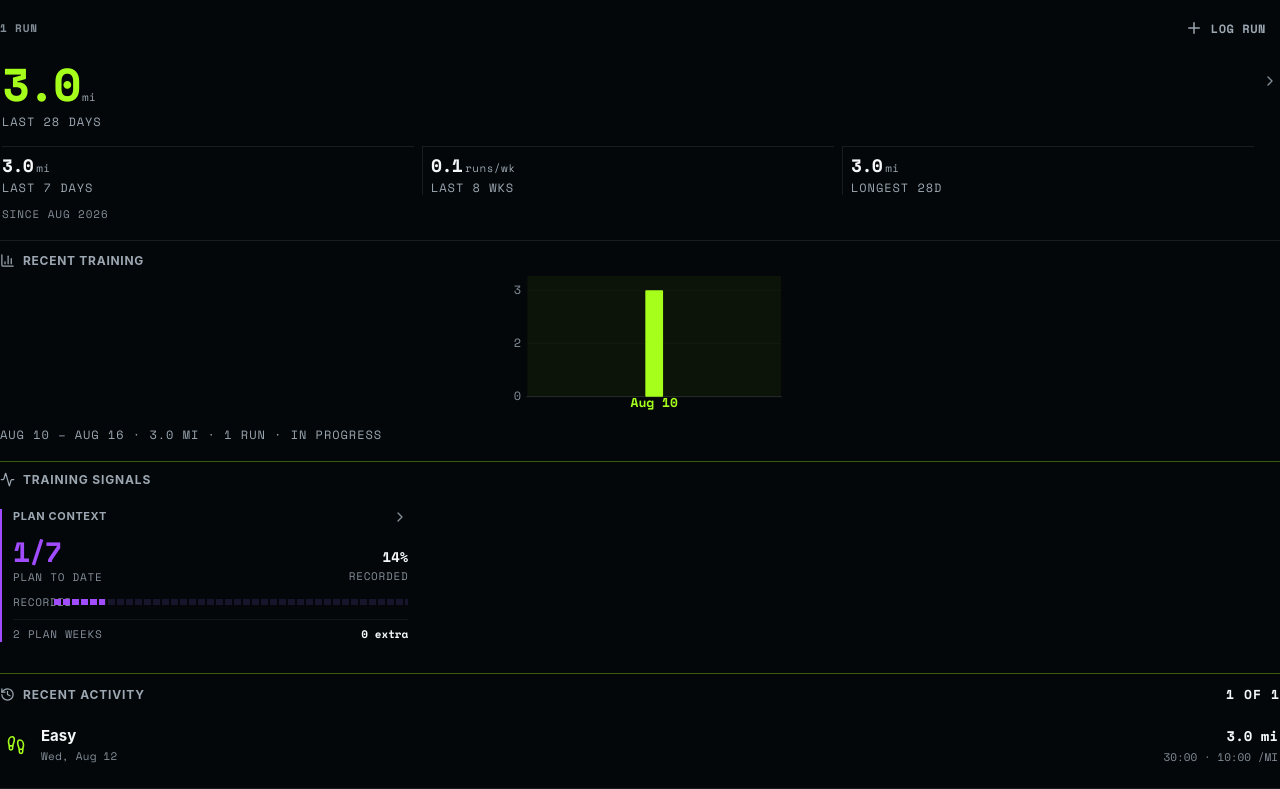
Test case: Runs history › still opens the existing Run Detail for a STACK run
Click the button "Easy Wed, Aug 12 3.0 mi 30:00 · 10:00 /MI".
click(59, 736)  # box 0,713 -> 1279,777
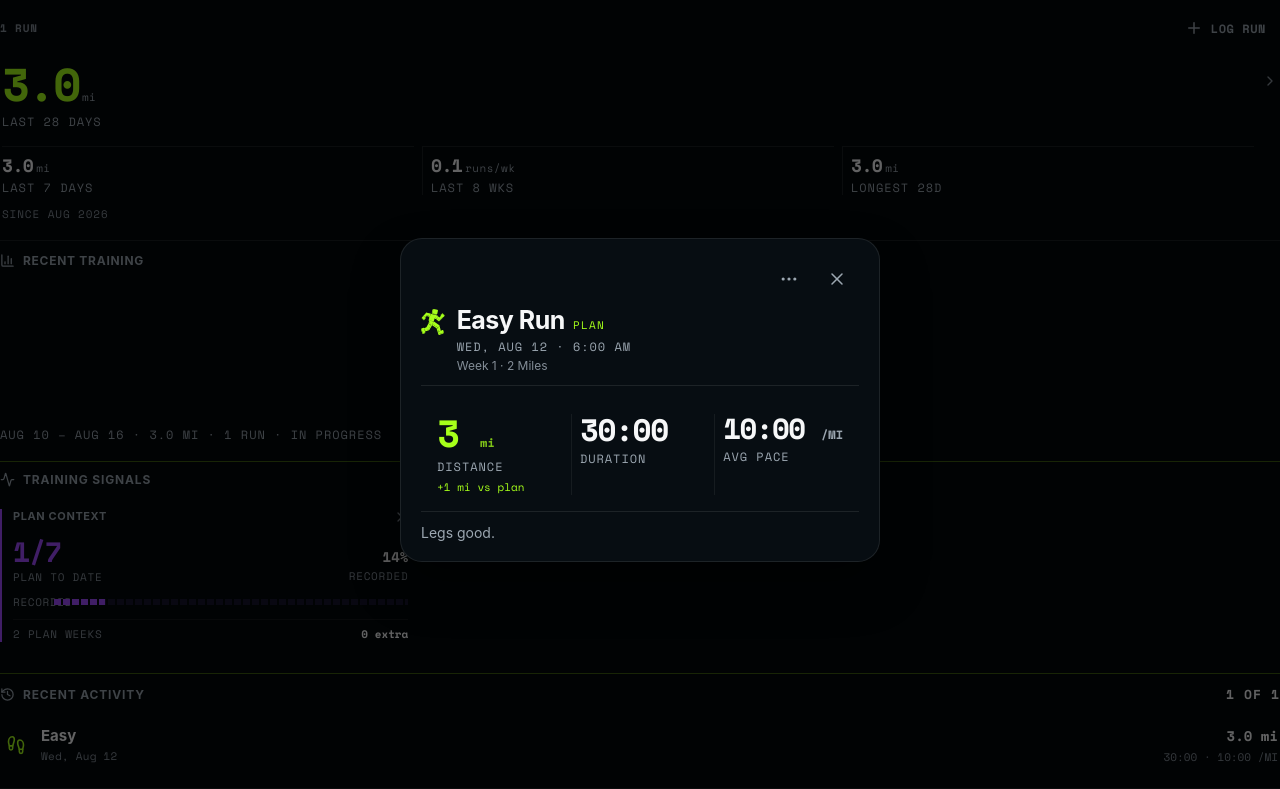
Check: the text "Plan" is shown, box 573,317 -> 605,333
Check: the text "Legs good." is shown, box 421,524 -> 495,541
Click the button named "Run options".
click(789, 281)  # box 767,259 -> 811,303
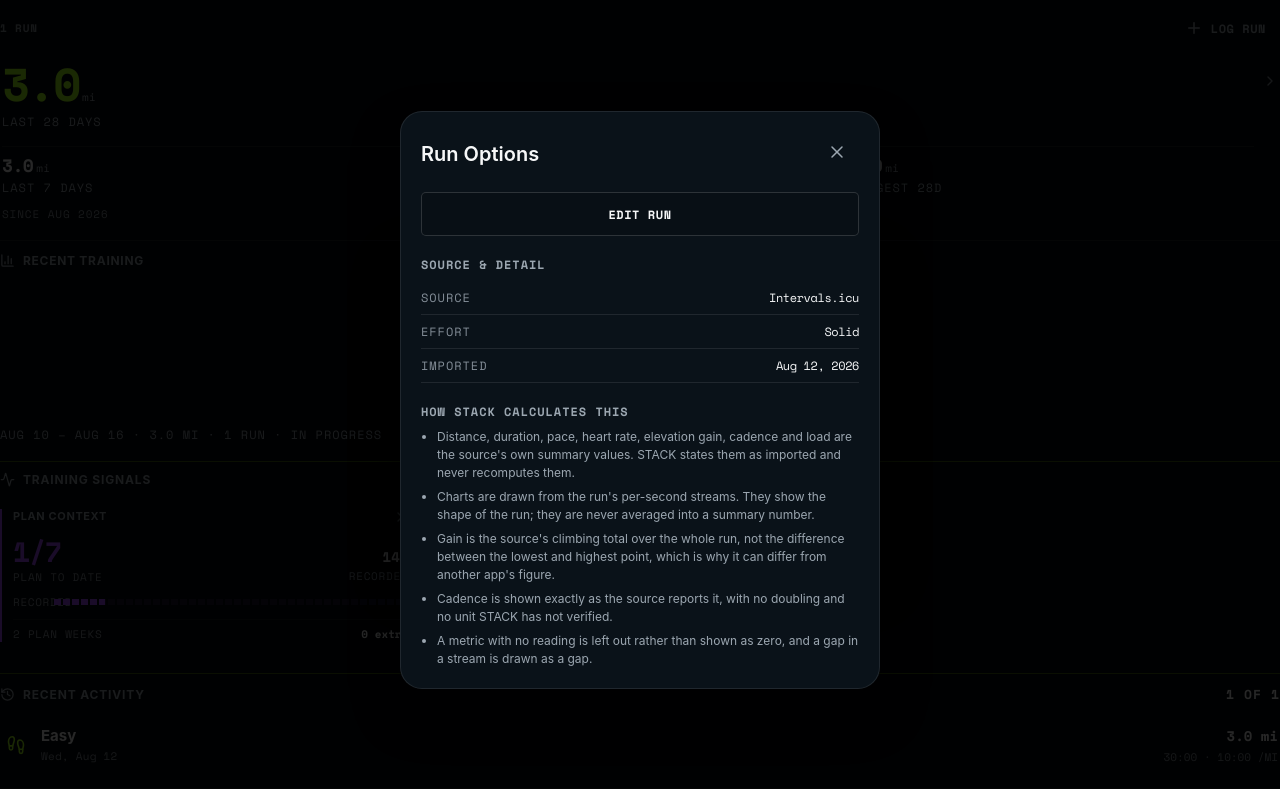
Check: the button "Edit Run" is shown, box 421,192 -> 859,236
